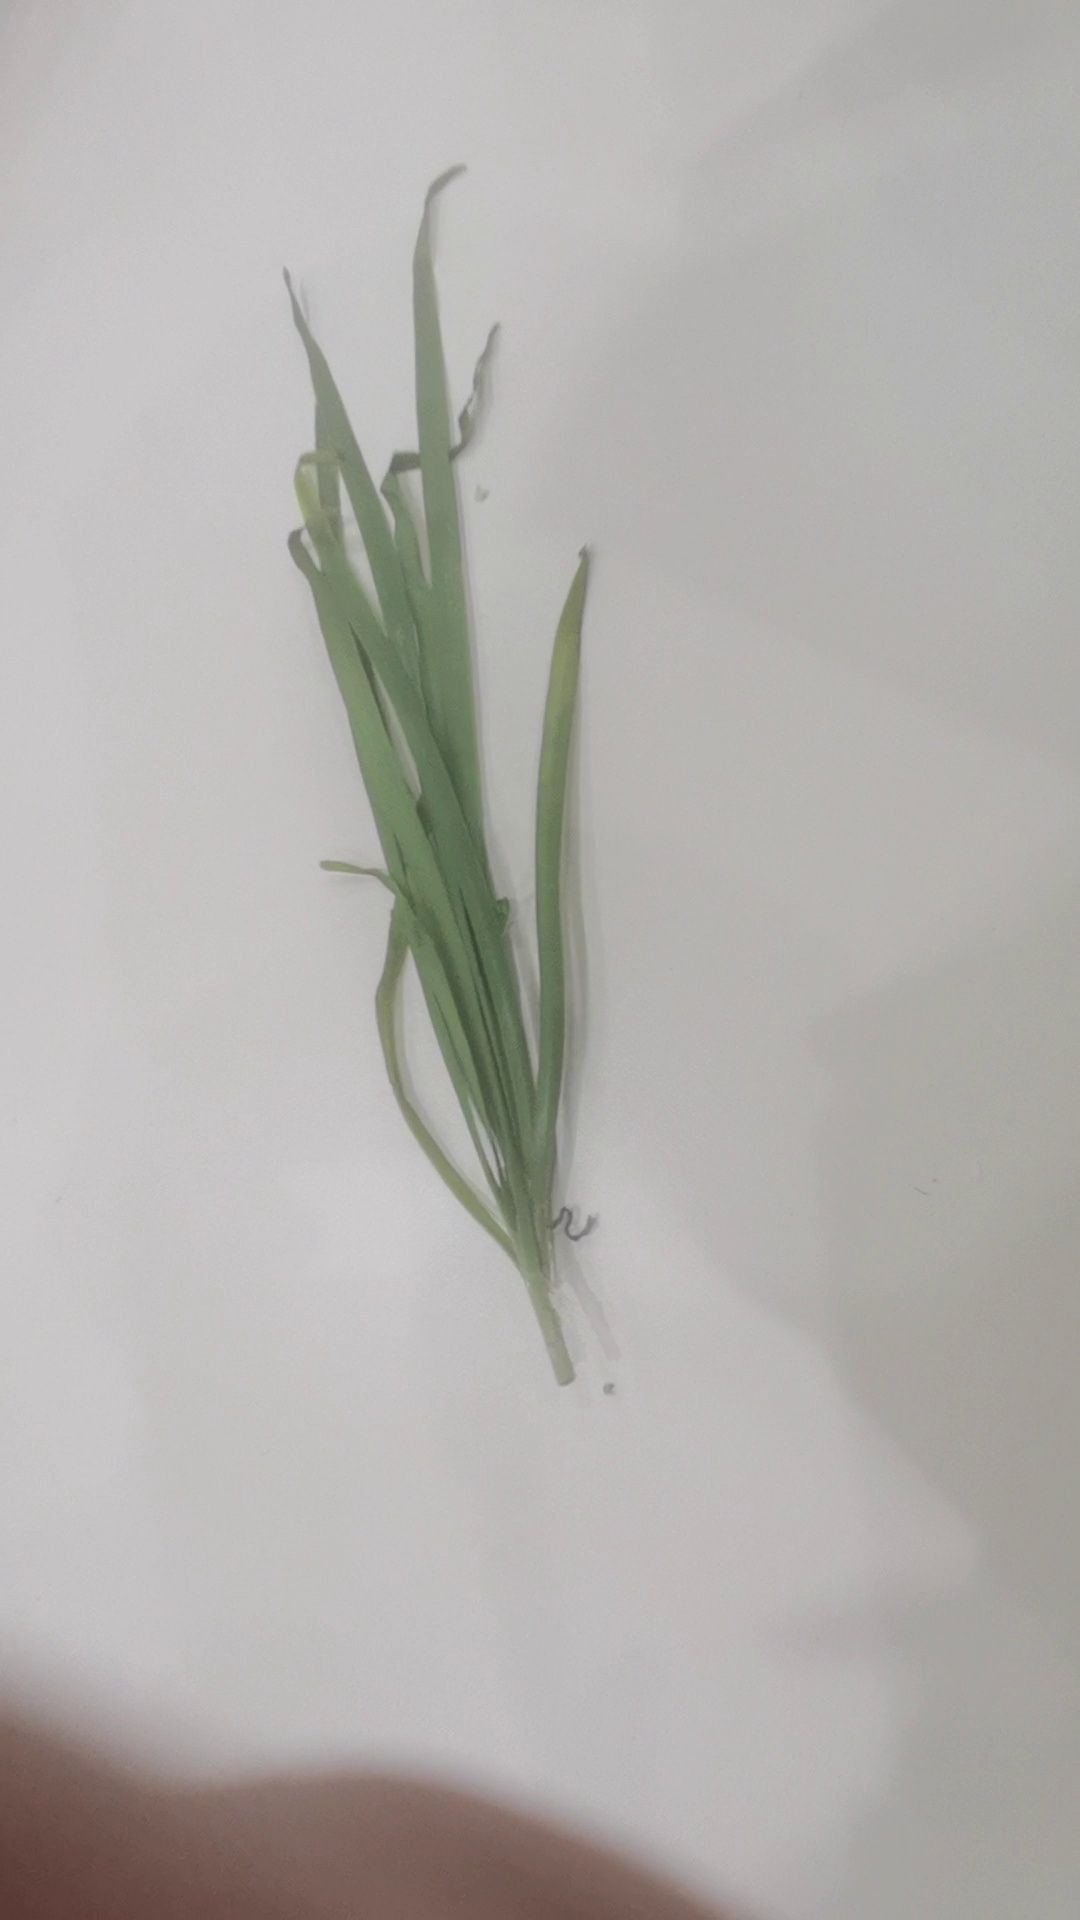chives: (236, 127, 647, 1407)
